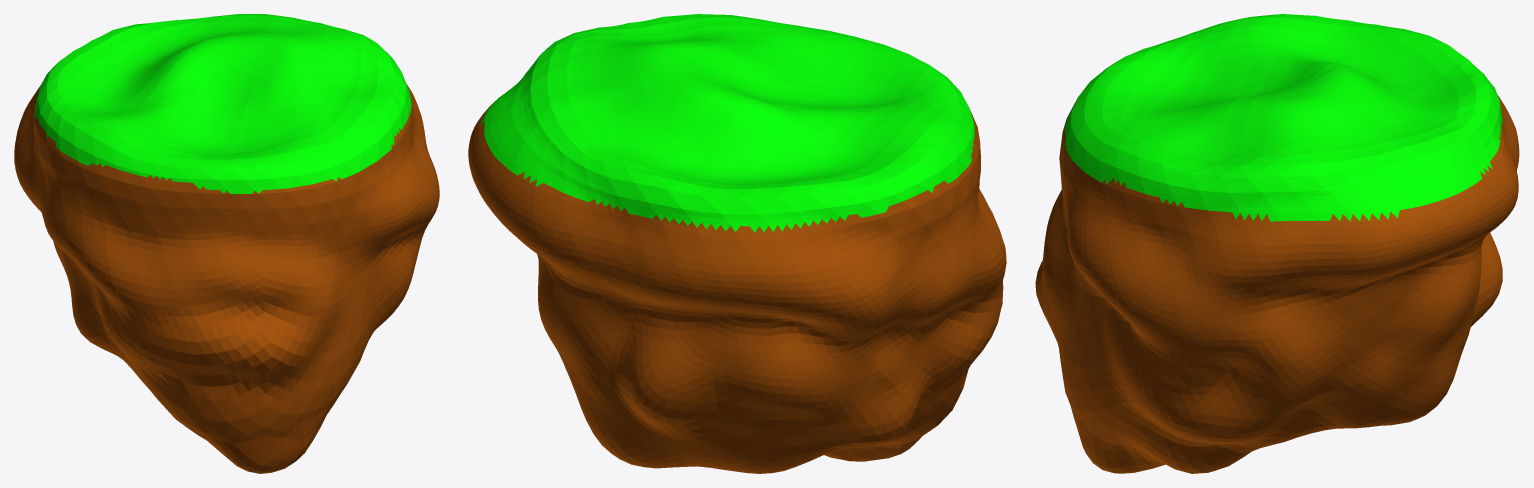
The model's file is Island_6.fbx.
3 views of the same model, side by side, from view 1: azimuth 30°, elevation 25°; view 2: azimuth 150°, elevation 25°; view 3: azimuth 270°, elevation 25° (orthographic). The views are drawn at different scales.
Parts seen in each view (by area): view 1: Island_6; view 2: Island_6; view 3: Island_6.
Boxes of the visible parts, bbox=[...] form: Island_6: bbox=[14, 14, 439, 473]; Island_6: bbox=[468, 14, 1006, 473]; Island_6: bbox=[1035, 14, 1519, 473].
Bounding box in the file's own units: 211 × 202 × 213.
